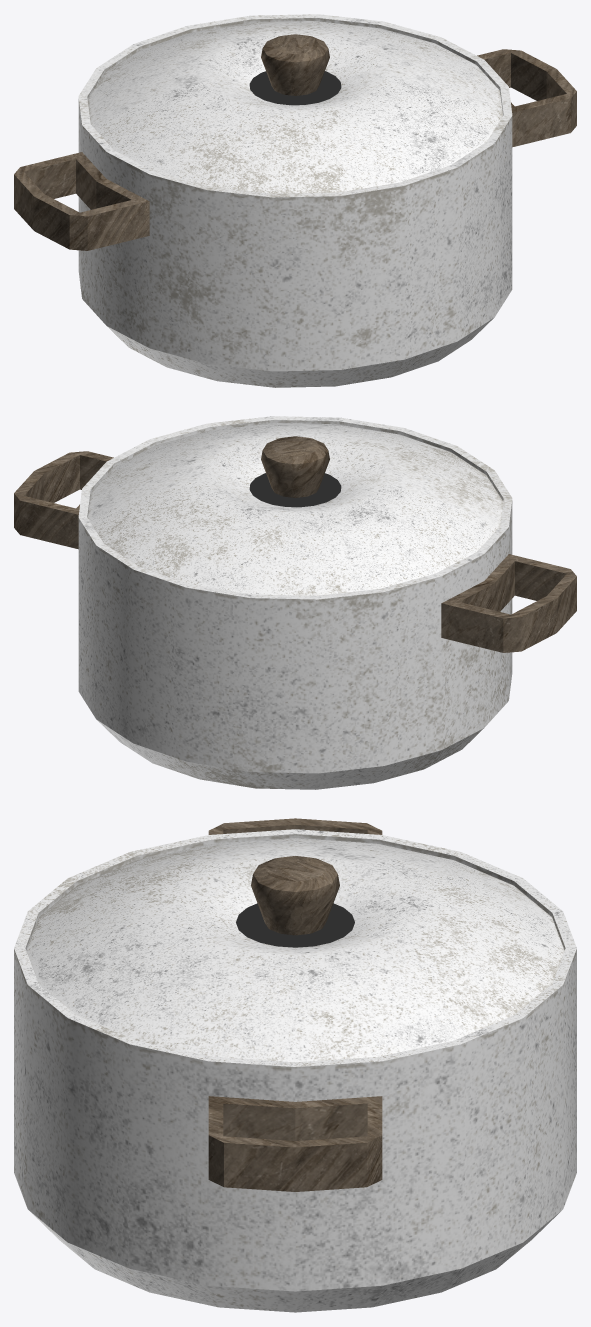
Rendered from vessel.glb.
The picture shows the model from 3 angles, top to bottom: view 1: azimuth 30°, elevation 25°; view 2: azimuth 150°, elevation 25°; view 3: azimuth 270°, elevation 25°; orthographic projection. The views are drawn at different scales.
Visible parts, largest first — view 1: Object_2; view 2: Object_2; view 3: Object_2.
Part boxes in pixels (x1,y1,x2,y2): Object_2: (14, 14, 576, 387); Object_2: (14, 416, 576, 789); Object_2: (14, 818, 576, 1312).
Bounding box in the file's own units: 0.123 × 0.059 × 0.0889.
1 material, 1 textured.
